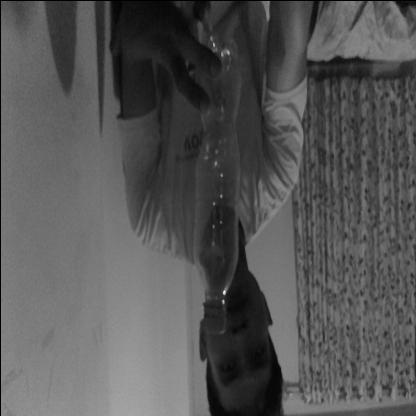plastic_bottles: (191, 29, 242, 337)
